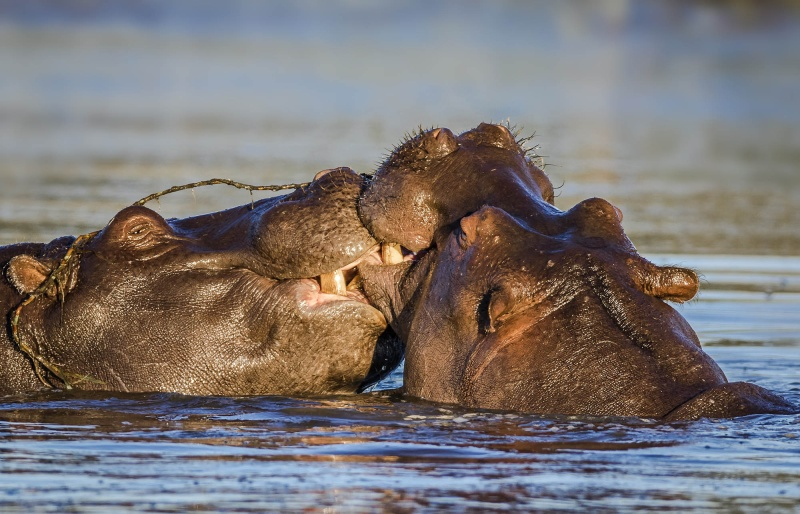hipopotamo: (360, 118, 800, 440), (0, 164, 395, 383)
